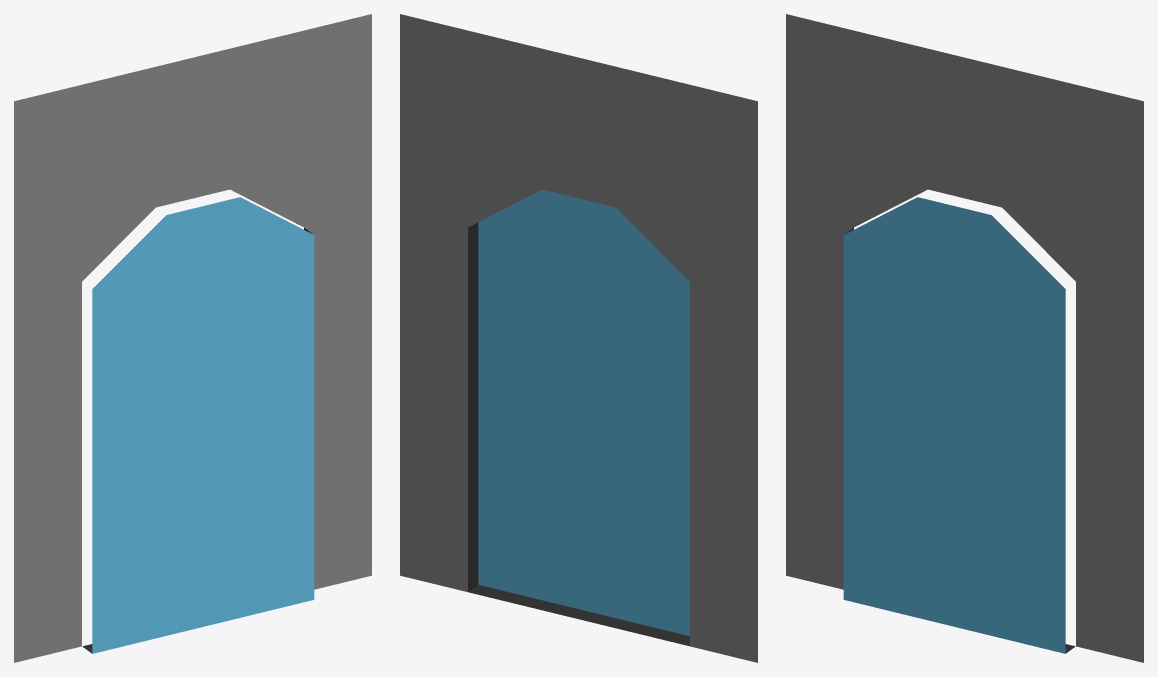
The model's file is FlatWallInsetWindow.FBX.
The picture shows the model from 3 angles, left to right: view 1: azimuth 30°, elevation 25°; view 2: azimuth 150°, elevation 25°; view 3: azimuth 330°, elevation 25°; orthographic projection.
Visible parts, largest first — view 1: FlatWall003; view 2: FlatWall003; view 3: FlatWall003.
Boxes of the visible parts, bbox=[...] form: FlatWall003: bbox=[14, 14, 371, 662]; FlatWall003: bbox=[400, 14, 757, 662]; FlatWall003: bbox=[786, 14, 1143, 662].
Bounding box in the file's own units: 78.74 × 118 × 3.94.
